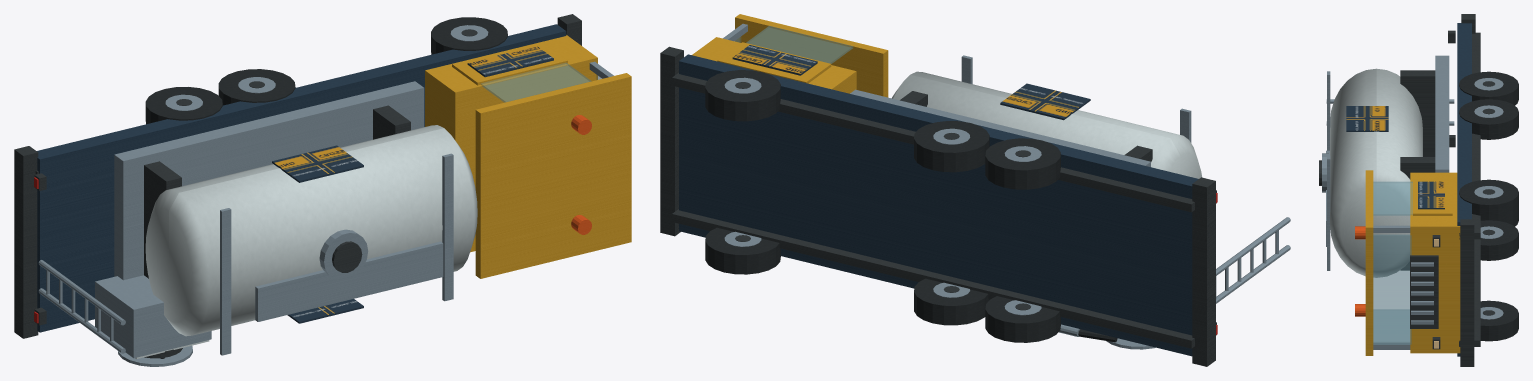
The model's file is PZ_Aviation_Fuel_Bowser.glb.
3 views of the same model, side by side, from view 1: azimuth 30°, elevation 25°; view 2: azimuth 150°, elevation 25°; view 3: azimuth 270°, elevation 25° (orthographic). The views are drawn at different scales.
Parts seen in each view (by area): view 1: RENDER_Aviation_Fuel_Bowser_FuelTankPressureVessel, RENDER_Aviation_Fuel_Bowser_DriverCabRoof, RENDER_Aviation_Fuel_Bowser_ChassisLadder, RENDER_Aviation_Fuel_Bowser_TankMountingCradle, RENDER_Aviation_Fuel_Bowser_DriverCabLower, RENDER_Aviation_Fuel_Bowser_TankTopServiceDeck, RENDER_Aviation_Fuel_Bowser_FuelTransferPumpCabinet, RENDER_Aviation_Fuel_Bowser_RearCrashBumper, RENDER_Aviation_Fuel_Bowser_CabGlass_1, RENDER_Aviation_Fuel_Bowser_TankMarkings_1, RENDER_Aviation_Fuel_Bowser_Tire_0_L, RENDER_Aviation_Fuel_Bowser_Tire_2_L (+14 smaller); view 2: RENDER_Aviation_Fuel_Bowser_ChassisLadder, RENDER_Aviation_Fuel_Bowser_FuelTankPressureVessel, RENDER_Aviation_Fuel_Bowser_SideChassisRail_-1, RENDER_Aviation_Fuel_Bowser_DriverCabRoof, RENDER_Aviation_Fuel_Bowser_RearCrashBumper, RENDER_Aviation_Fuel_Bowser_SideChassisRail_1, RENDER_Aviation_Fuel_Bowser_FrontCrashBumper, RENDER_Aviation_Fuel_Bowser_Tire_2_L, RENDER_Aviation_Fuel_Bowser_Tire_0_L, RENDER_Aviation_Fuel_Bowser_Tire_1_L, RENDER_Aviation_Fuel_Bowser_Tire_0_R, RENDER_Aviation_Fuel_Bowser_Tire_2_R (+9 smaller); view 3: RENDER_Aviation_Fuel_Bowser_FuelTankPressureVessel, RENDER_Aviation_Fuel_Bowser_DriverCabLower, RENDER_Aviation_Fuel_Bowser_FrontWindshield, RENDER_Aviation_Fuel_Bowser_ChassisLadder, RENDER_Aviation_Fuel_Bowser_FrontCrashBumper, RENDER_Aviation_Fuel_Bowser_TankUnderSaddle_-2.32, RENDER_Aviation_Fuel_Bowser_TankMountingCradle, RENDER_Aviation_Fuel_Bowser_DriverCabRoof, RENDER_Aviation_Fuel_Bowser_Tire_1_L, RENDER_Aviation_Fuel_Bowser_Tire_2_L, RENDER_Aviation_Fuel_Bowser_RadiatorFront, RENDER_Aviation_Fuel_Bowser_CabGlass_1 (+22 smaller).
Part boxes in pixels (x1,y1,x2,y2): RENDER_Aviation_Fuel_Bowser_FuelTankPressureVessel: (145, 125, 477, 336); RENDER_Aviation_Fuel_Bowser_DriverCabRoof: (475, 73, 631, 278); RENDER_Aviation_Fuel_Bowser_ChassisLadder: (37, 24, 566, 332); RENDER_Aviation_Fuel_Bowser_TankMountingCradle: (114, 81, 424, 280); RENDER_Aviation_Fuel_Bowser_DriverCabLower: (425, 35, 597, 252); RENDER_Aviation_Fuel_Bowser_TankTopServiceDeck: (255, 241, 443, 321); RENDER_Aviation_Fuel_Bowser_FuelTransferPumpCabinet: (95, 275, 211, 358); RENDER_Aviation_Fuel_Bowser_RearCrashBumper: (14, 146, 38, 338); RENDER_Aviation_Fuel_Bowser_CabGlass_1: (481, 63, 591, 102); RENDER_Aviation_Fuel_Bowser_TankMarkings_1: (272, 145, 363, 182); RENDER_Aviation_Fuel_Bowser_Tire_0_L: (145, 87, 222, 124); RENDER_Aviation_Fuel_Bowser_Tire_2_L: (431, 17, 507, 54); RENDER_Aviation_Fuel_Bowser_ChassisLadder: (679, 54, 1198, 356); RENDER_Aviation_Fuel_Bowser_FuelTankPressureVessel: (892, 71, 1202, 178); RENDER_Aviation_Fuel_Bowser_SideChassisRail_-1: (672, 209, 1194, 348); RENDER_Aviation_Fuel_Bowser_DriverCabRoof: (735, 14, 888, 97); RENDER_Aviation_Fuel_Bowser_RearCrashBumper: (1192, 177, 1215, 366); RENDER_Aviation_Fuel_Bowser_SideChassisRail_1: (672, 73, 1194, 212); RENDER_Aviation_Fuel_Bowser_FrontCrashBumper: (660, 46, 683, 236); RENDER_Aviation_Fuel_Bowser_Tire_2_L: (705, 70, 780, 121); RENDER_Aviation_Fuel_Bowser_Tire_0_L: (985, 138, 1060, 189); RENDER_Aviation_Fuel_Bowser_Tire_1_L: (914, 121, 989, 172); RENDER_Aviation_Fuel_Bowser_Tire_0_R: (985, 296, 1060, 342); RENDER_Aviation_Fuel_Bowser_Tire_2_R: (705, 227, 780, 274); RENDER_Aviation_Fuel_Bowser_FuelTankPressureVessel: (1330, 68, 1422, 277); RENDER_Aviation_Fuel_Bowser_DriverCabLower: (1410, 172, 1460, 353); RENDER_Aviation_Fuel_Bowser_FrontWindshield: (1373, 234, 1411, 344); RENDER_Aviation_Fuel_Bowser_ChassisLadder: (1457, 23, 1471, 356); RENDER_Aviation_Fuel_Bowser_FrontCrashBumper: (1460, 219, 1474, 366); RENDER_Aviation_Fuel_Bowser_TankUnderSaddle_-2.32: (1400, 70, 1435, 156); RENDER_Aviation_Fuel_Bowser_TankMountingCradle: (1435, 55, 1449, 172); RENDER_Aviation_Fuel_Bowser_DriverCabRoof: (1365, 170, 1373, 355); RENDER_Aviation_Fuel_Bowser_Tire_1_L: (1459, 99, 1518, 139); RENDER_Aviation_Fuel_Bowser_Tire_2_L: (1459, 179, 1518, 220); RENDER_Aviation_Fuel_Bowser_RadiatorFront: (1410, 255, 1438, 328); RENDER_Aviation_Fuel_Bowser_CabGlass_1: (1373, 181, 1412, 215).
Size of the model in its own units: 7.82 by 2.69 by 3.13.
Materials: 12 (12 with a texture image).
